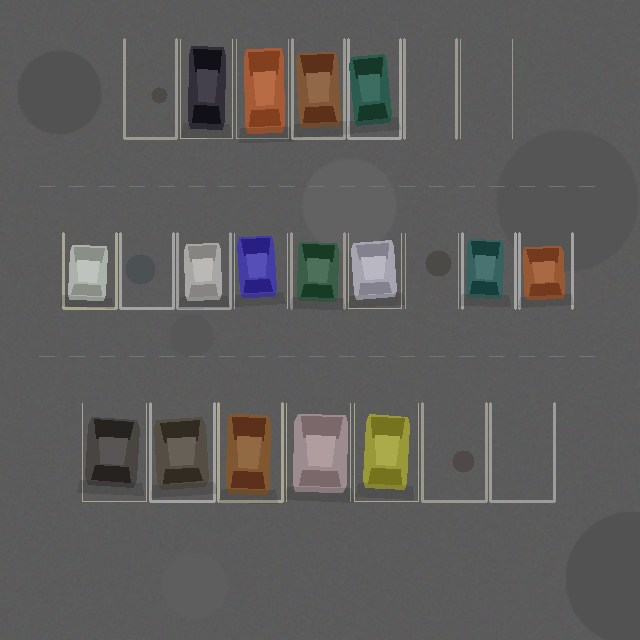space-empty: (422, 403, 486, 501), (490, 403, 554, 501), (124, 39, 176, 138), (404, 39, 456, 138), (460, 39, 512, 138), (120, 233, 173, 308), (405, 233, 458, 308)
space-occupied: (82, 403, 146, 501), (150, 403, 214, 501), (218, 403, 282, 501), (286, 403, 350, 501), (354, 403, 418, 501), (180, 39, 232, 138), (236, 39, 288, 138), (292, 39, 344, 138), (348, 39, 400, 138), (63, 233, 116, 308), (177, 233, 230, 308), (234, 233, 287, 308), (291, 233, 344, 308), (348, 233, 401, 308), (462, 233, 515, 308), (519, 233, 572, 308)
